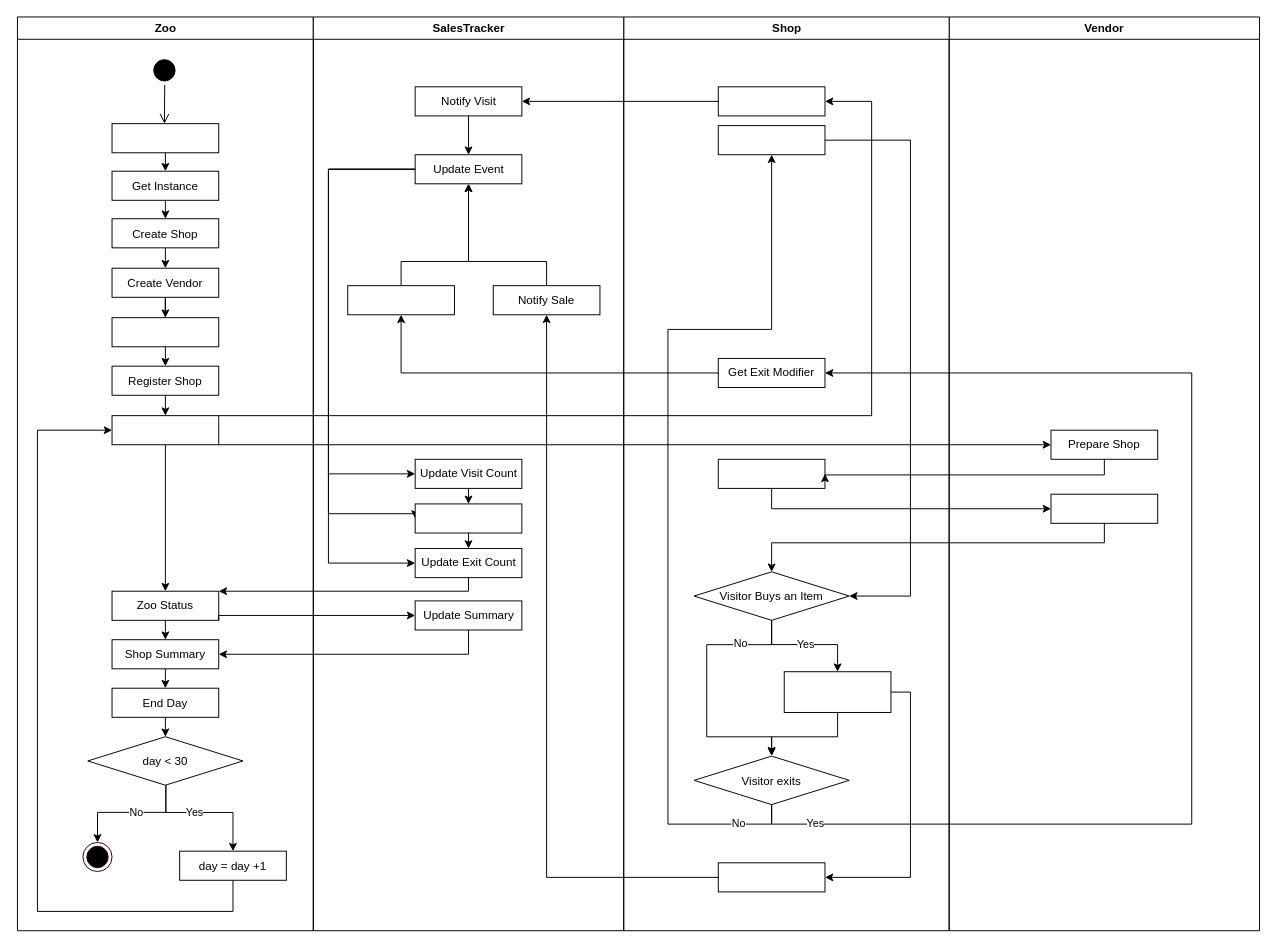
The diagram is 1277 pixels wide and 948 high, and some of its shapes have lost their labels. Each missing label, with the centre of its shape:
"Get Sale Modifier" goes at pixel 771 877.
"Initialize Zoo" goes at pixel 165 138.
"Notify Exit" goes at pixel 400 300.
"Prepare Inventory" goes at pixel 771 473.
"Sell Items" goes at pixel 1104 508.
"Set Sales Behavior" goes at pixel 165 332.
"Start Day" goes at pixel 165 430.
"Update Sales Count" goes at pixel 468 518.
"Update Shop Inventory/Cash" goes at pixel 837 691.
"Visit" goes at pixel 771 101.
"Visit next Shop" goes at pixel 771 140.
